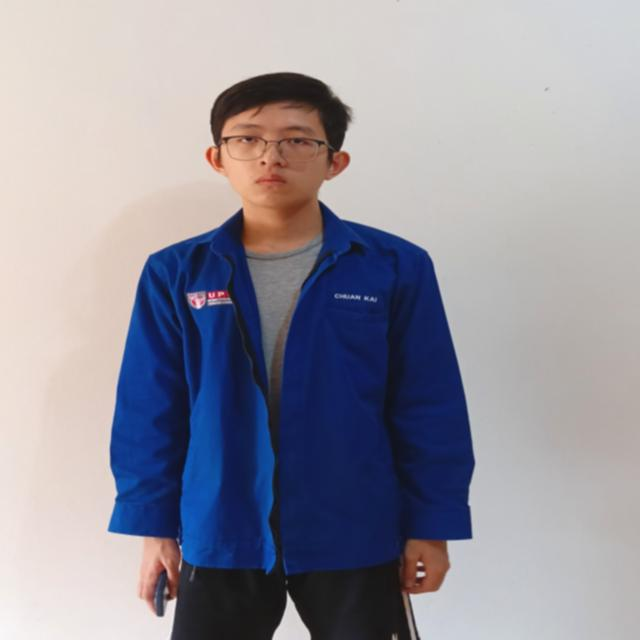person_with_labcoat: (110, 73, 474, 640)
